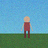person: (21, 16, 33, 38)
